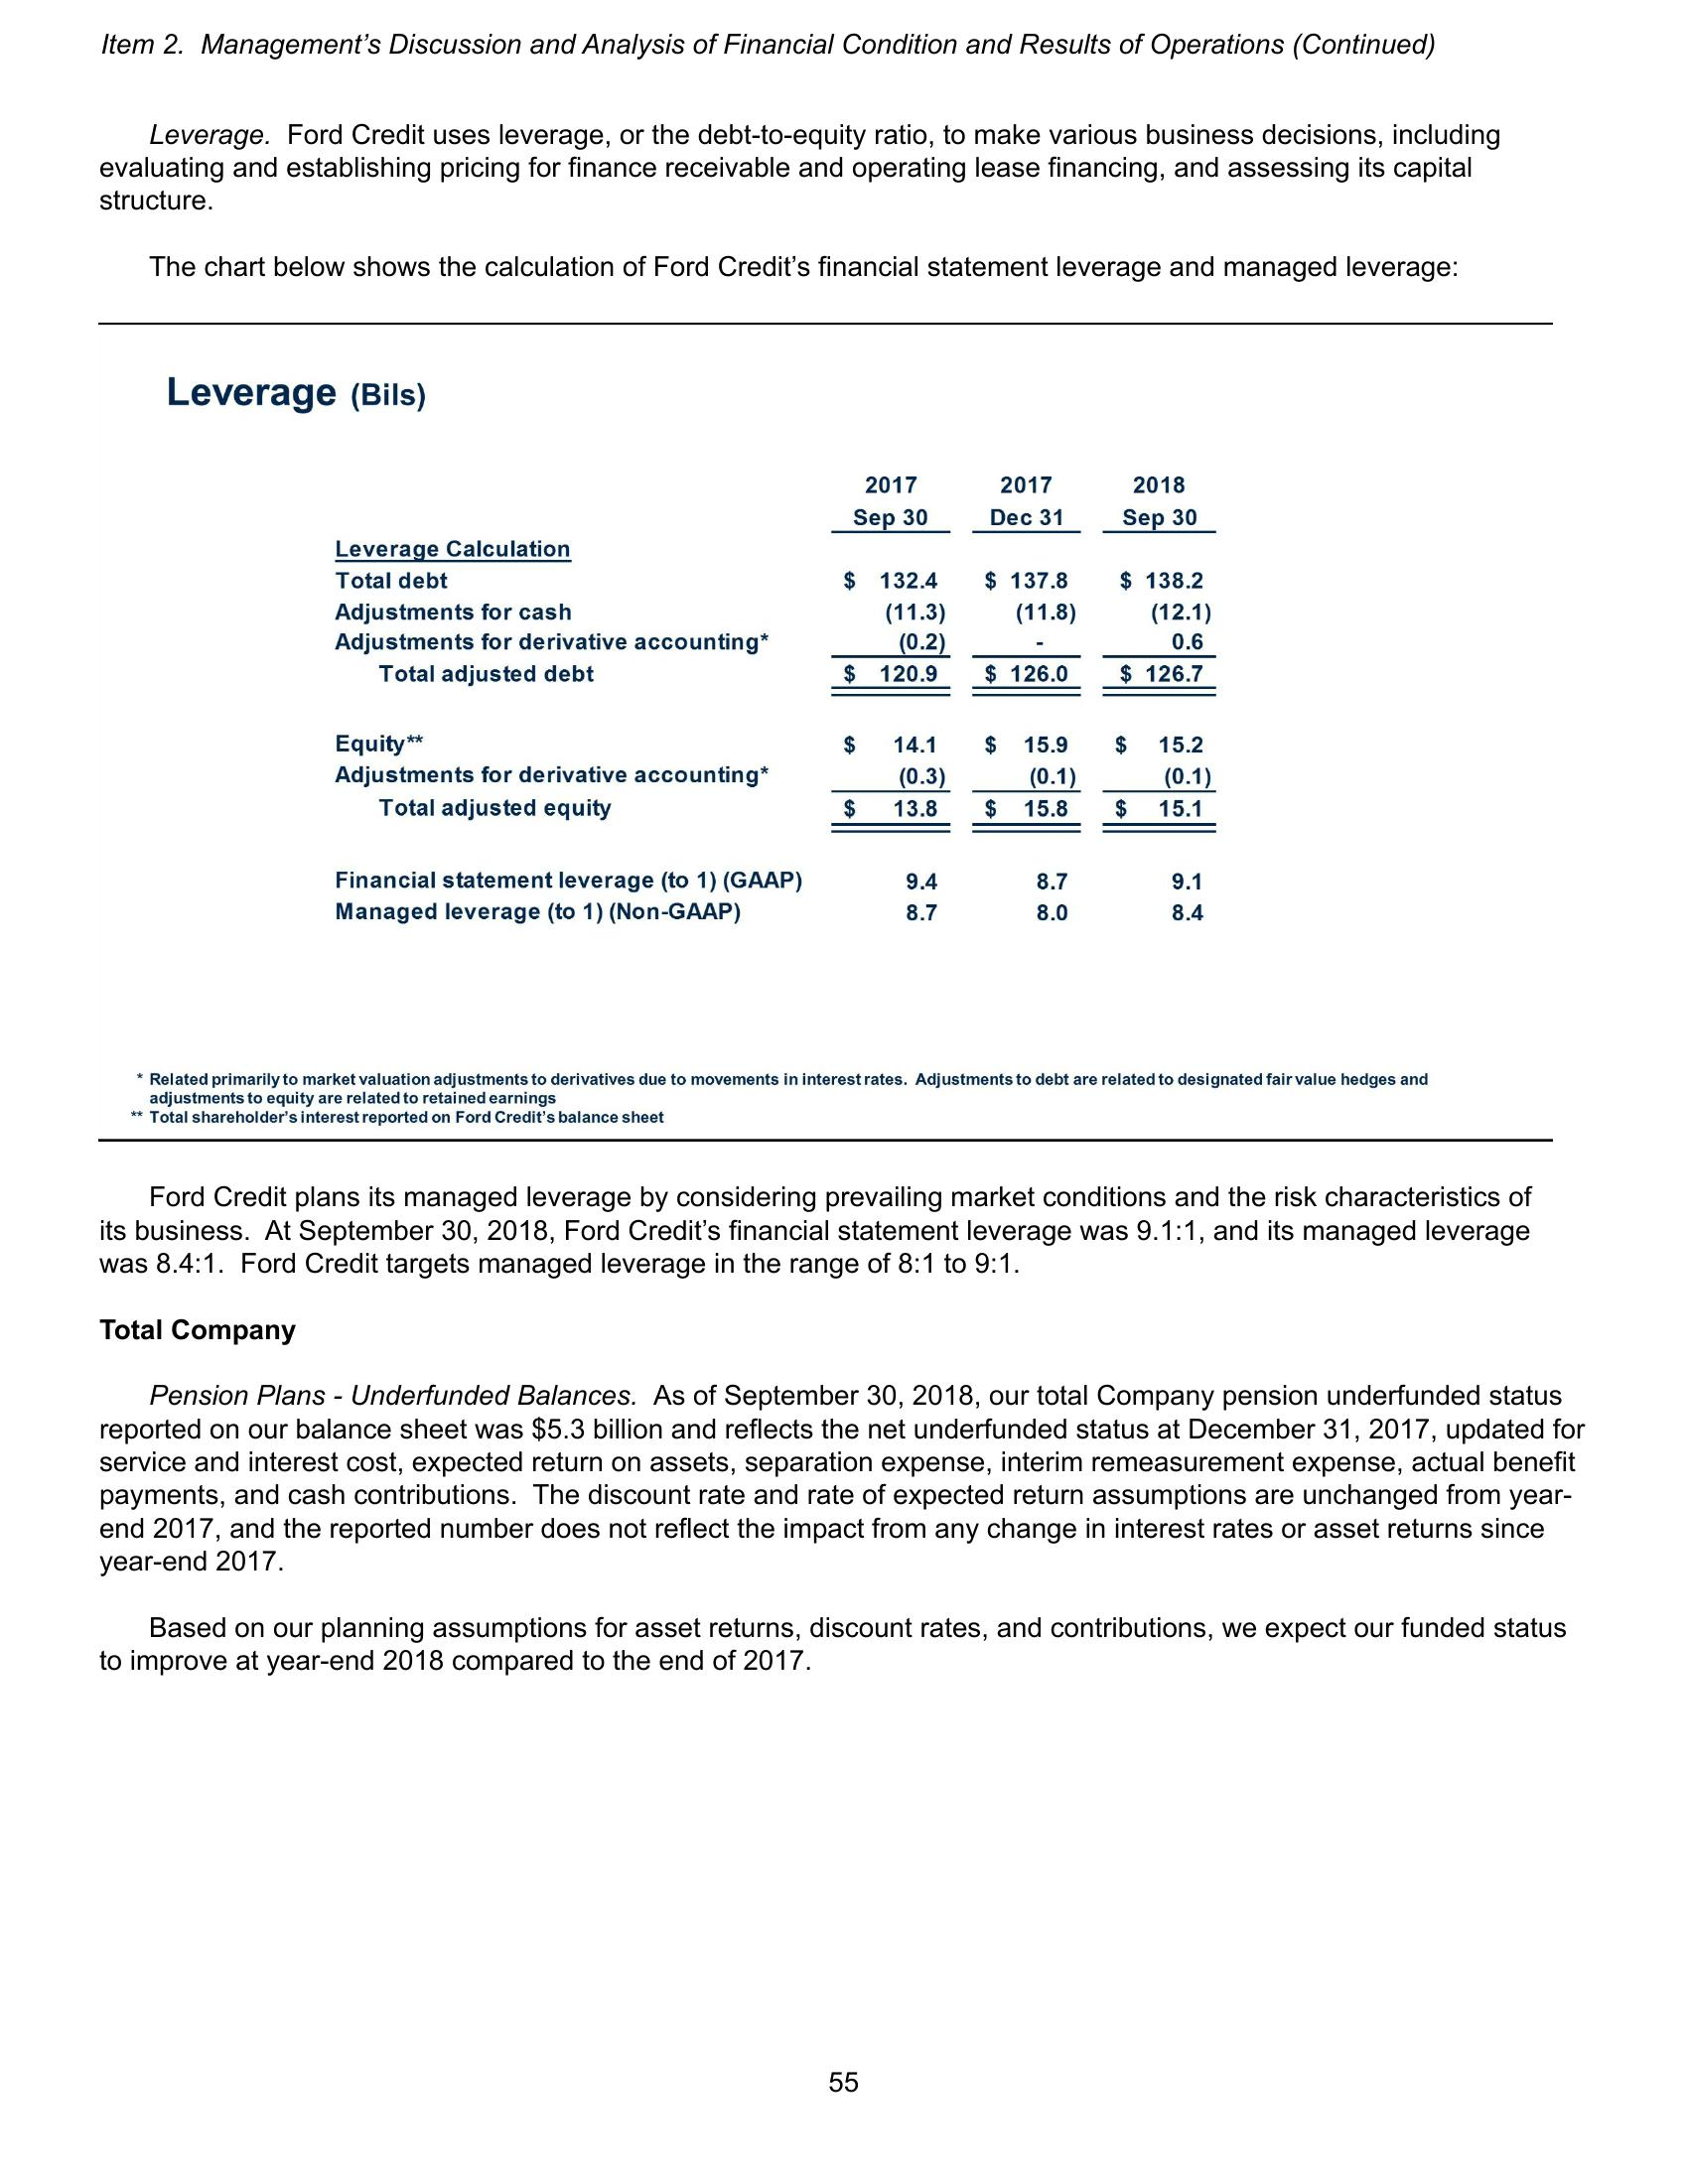table: (326, 454, 1215, 929)
